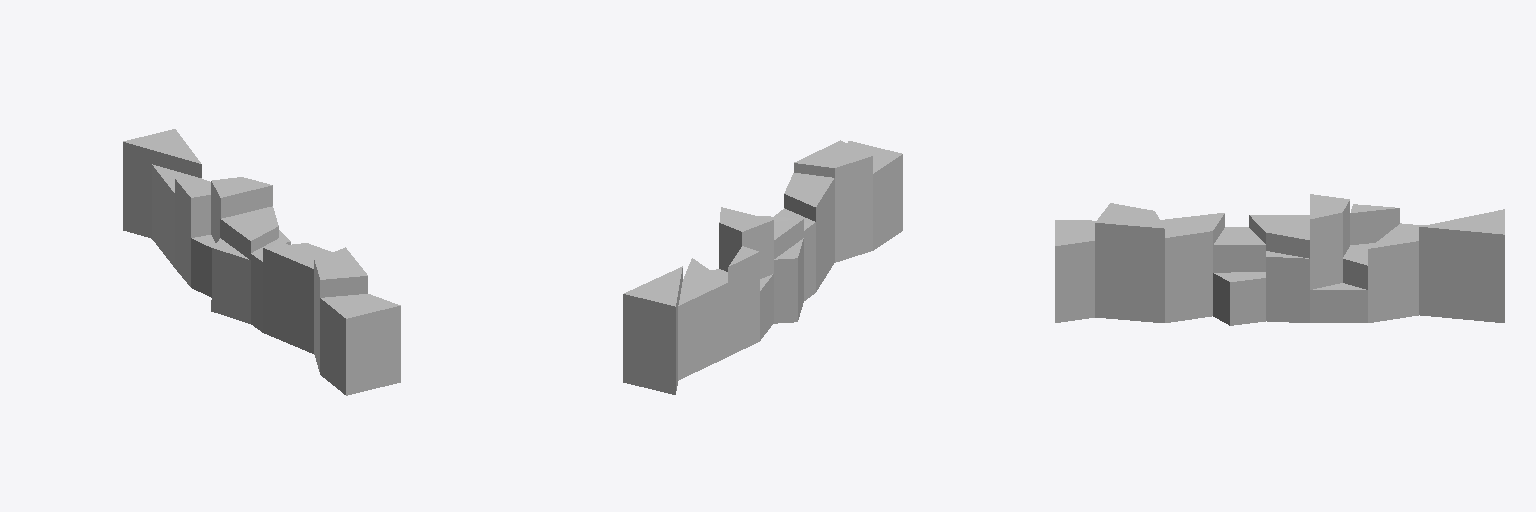
File: Wall.obj
The picture shows the model from 3 angles: view 1: azimuth 30°, elevation 25°; view 2: azimuth 150°, elevation 25°; view 3: azimuth 270°, elevation 25°; orthographic projection.
Visible parts, largest first — view 1: Plane; view 2: Plane; view 3: Plane.
Part boxes in pixels (bbox=[...]): Plane: bbox=[123, 129, 400, 395]; Plane: bbox=[623, 140, 902, 394]; Plane: bbox=[1055, 194, 1504, 325].
Size of the model in its own units: 2.83 by 3.78 by 14.86.